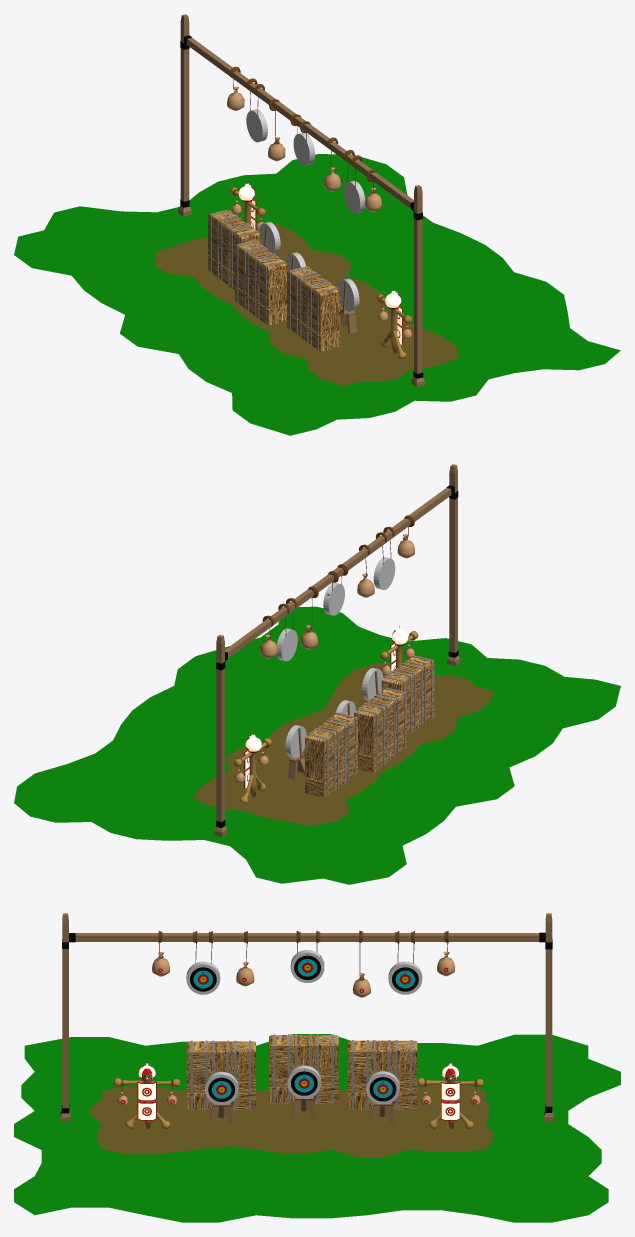
File: Archery Targets.fbx
3 renders of one model, top to bottom at view 1: azimuth 30°, elevation 25°; view 2: azimuth 150°, elevation 25°; view 3: azimuth 270°, elevation 25°, orthographic. The views are drawn at different scales.
Parts seen in each view (by area): view 1: Grass, Dirt, Post, Hay Stack, Hay Stack.001, Hay Stack.002, Hay bands.001, Hay bands, Hay bands.002, Wood target, SandBags.002, SandBags.003; view 2: Grass, Dirt, Post, Hay Stack.002, Hay Stack.001, Hay Stack, Hay bands.002, Hay bands.001, Hay bands, Wood target.001, SandBags.003, SandBags.002; view 3: Grass, Dirt, Post, Hay Stack.002, Hay Stack, Hay Stack.001, Hay bands, Hay bands.002, Hay bands.001, Wood target, Wood target.001, SandBags.002 (+7 smaller).
Part boxes in pixels (x1,y1,x2,y2): Grass: (14, 154, 620, 435); Dirt: (154, 222, 458, 385); Post: (178, 14, 424, 387); Hay Stack: (287, 266, 340, 351); Hay Stack.001: (235, 240, 287, 325); Hay Stack.002: (208, 209, 261, 289); Hay bands.001: (236, 240, 286, 323); Hay bands: (288, 266, 338, 350); Hay bands.002: (209, 210, 259, 288); Wood target: (376, 294, 412, 359); SandBags.002: (324, 167, 382, 211); SandBags.003: (227, 86, 285, 161); Grass: (14, 606, 620, 884); Dirt: (193, 663, 493, 826); Post: (214, 464, 460, 836); Hay Stack.002: (305, 712, 357, 797); Hay Stack.001: (354, 687, 406, 772); Hay Stack: (381, 655, 434, 735); Hay bands.002: (307, 712, 356, 796); Hay bands.001: (356, 687, 405, 771); Hay bands: (383, 655, 433, 733); Wood target.001: (233, 738, 271, 803); SandBags.003: (260, 625, 318, 658); SandBags.002: (357, 534, 414, 597); Grass: (14, 1034, 620, 1222); Dirt: (90, 1084, 492, 1157); Post: (60, 913, 553, 1121); Hay Stack.002: (347, 1040, 417, 1109); Hay Stack: (186, 1041, 255, 1109); Hay Stack.001: (269, 1035, 338, 1103); Hay bands: (190, 1040, 251, 1110); Hay bands.002: (351, 1040, 412, 1109); Hay bands.001: (273, 1034, 333, 1104); Wood target: (114, 1073, 179, 1129); Wood target.001: (417, 1073, 483, 1129); SandBags.002: (152, 952, 254, 986).
Size of the model in its own units: 1907 by 1001 by 2592.
